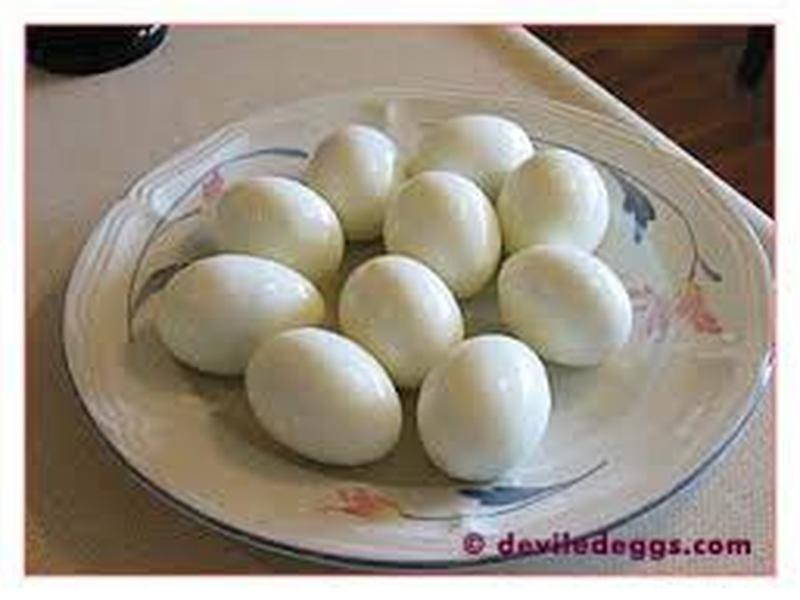egg: (344, 249, 475, 377)
